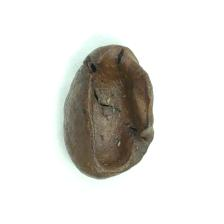NG: (88, 56, 151, 172)
